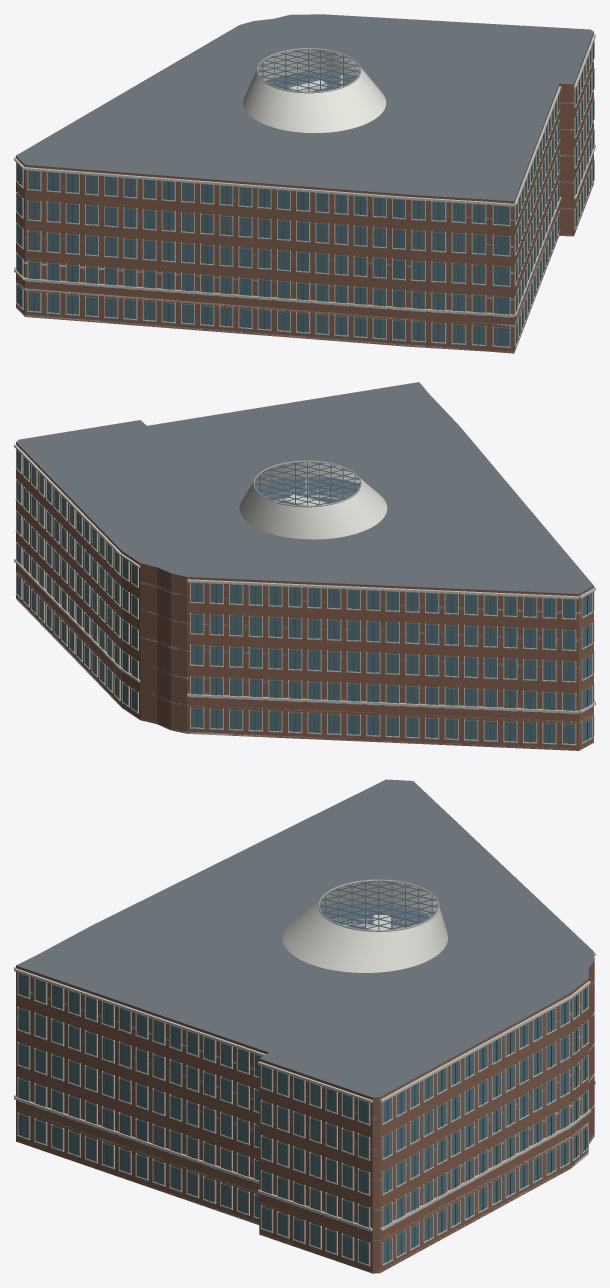
The model's file is lrb-exterior-a3029857b1c2.glb.
3 views of the same model, one above another, from view 1: azimuth 30°, elevation 25°; view 2: azimuth 150°, elevation 25°; view 3: azimuth 270°, elevation 25° (orthographic). The views are drawn at different scales.
Visible parts, largest first — view 1: LRB.001; view 2: LRB.001; view 3: LRB.001.
Boxes of the visible parts, bbox=[...] form: LRB.001: bbox=[14, 14, 595, 353]; LRB.001: bbox=[14, 382, 595, 750]; LRB.001: bbox=[14, 779, 595, 1273].
Bounding box in the file's own units: 89.59 × 27.34 × 68.9.
